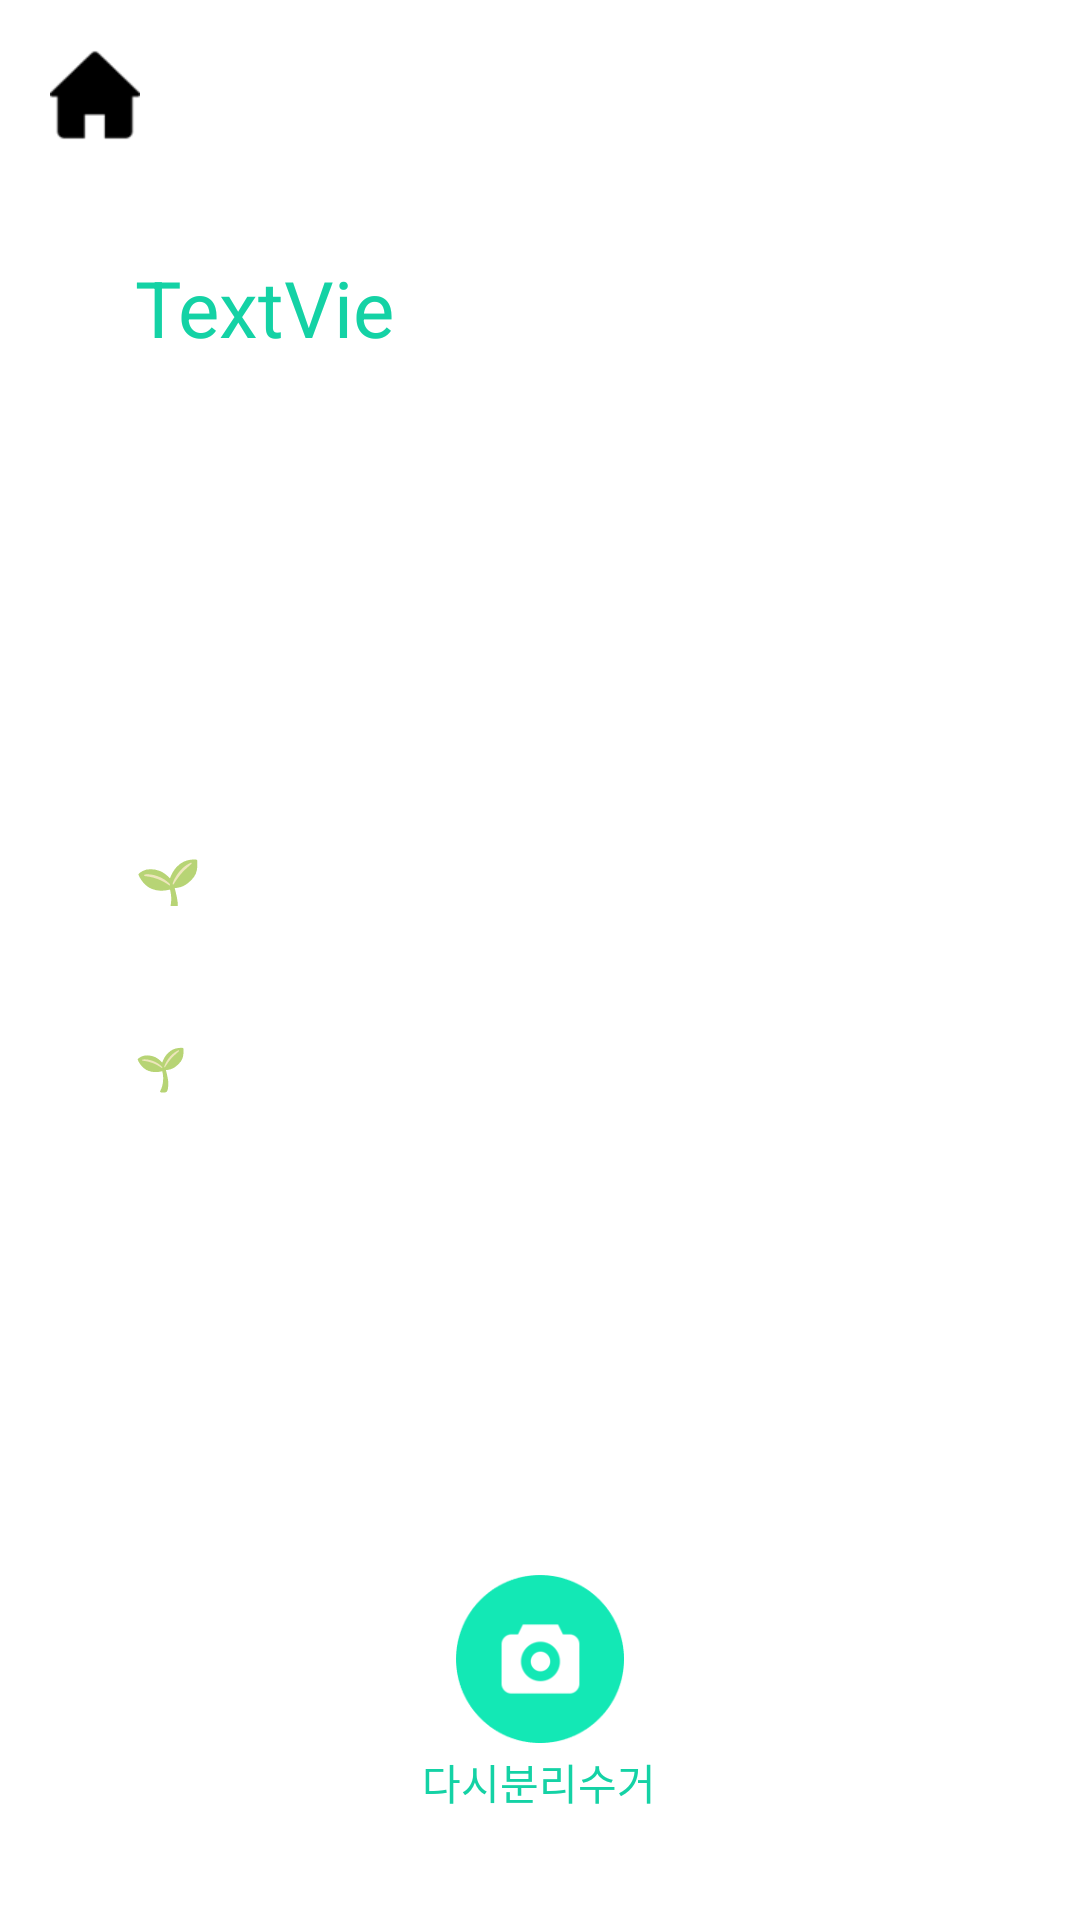

Where to tap for icons on this 1080w x 1920h app screen, as point (x, y):
camerbutton: point (540, 1659)
home: point (95, 95)
